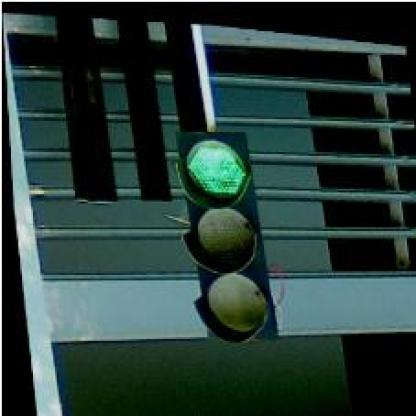green: (169, 120, 274, 342)
